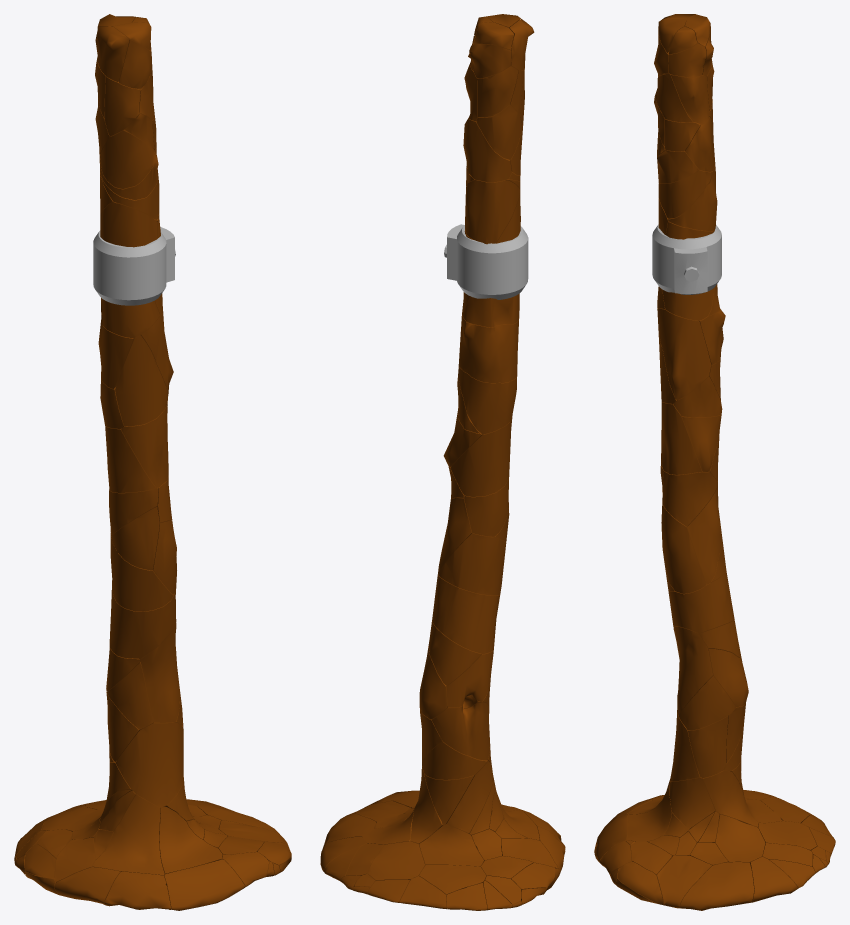
The picture shows the model from 3 angles, left to right: view 1: azimuth 30°, elevation 25°; view 2: azimuth 150°, elevation 25°; view 3: azimuth 270°, elevation 25°; orthographic projection. The views are drawn at different scales.
Visible parts, largest first — view 1: Circle.003, AnotherTrunk333.exported_cell.019, AnotherTrunk333.exported_cell.077, AnotherTrunk333.exported_cell.081, AnotherTrunk333.exported_cell.048, AnotherTrunk333.exported_cell.033, AnotherTrunk333.exported_cell.087, AnotherTrunk333.exported_cell.045, AnotherTrunk333.exported_cell.011, AnotherTrunk333.exported_cell.059, AnotherTrunk333.exported_cell.047, AnotherTrunk333.exported_cell.041 (+29 smaller); view 2: Circle.003, AnotherTrunk333.exported_cell.048, AnotherTrunk333.exported_cell.025, AnotherTrunk333.exported_cell.058, AnotherTrunk333.exported_cell.011, AnotherTrunk333.exported_cell.091, AnotherTrunk333.exported_cell.037, AnotherTrunk333.exported_cell.035, AnotherTrunk333.exported_cell.072, AnotherTrunk333.exported_cell.067, AnotherTrunk333.exported_cell.008, AnotherTrunk333.exported_cell.026 (+36 smaller); view 3: Circle.003, AnotherTrunk333.exported_cell.065, AnotherTrunk333.exported_cell.060, AnotherTrunk333.exported_cell.048, AnotherTrunk333.exported_cell.088, AnotherTrunk333.exported_cell.064, AnotherTrunk333.exported_cell.087, AnotherTrunk333.exported_cell.047, AnotherTrunk333.exported_cell.032, AnotherTrunk333.exported_cell.042, AnotherTrunk333.exported_cell.021, AnotherTrunk333.exported_cell.020 (+36 smaller).
Part boxes in pixels (left/top/right/bottom): Circle.003: left=93, top=227, right=175, bottom=305; AnotherTrunk333.exported_cell.019: left=115, top=722, right=183, bottom=807; AnotherTrunk333.exported_cell.077: left=92, top=795, right=164, bottom=875; AnotherTrunk333.exported_cell.081: left=115, top=335, right=167, bottom=426; AnotherTrunk333.exported_cell.048: left=110, top=587, right=176, bottom=658; AnotherTrunk333.exported_cell.033: left=164, top=859, right=245, bottom=910; AnotherTrunk333.exported_cell.087: left=140, top=623, right=179, bottom=722; AnotherTrunk333.exported_cell.045: left=159, top=806, right=222, bottom=875; AnotherTrunk333.exported_cell.011: left=110, top=532, right=173, bottom=611; AnotherTrunk333.exported_cell.059: left=100, top=130, right=156, bottom=188; AnotherTrunk333.exported_cell.047: left=121, top=405, right=168, bottom=487; AnotherTrunk333.exported_cell.041: left=104, top=871, right=170, bottom=909; Circle.003: left=444, top=224, right=528, bottom=299; AnotherTrunk333.exported_cell.048: left=432, top=574, right=500, bottom=653; AnotherTrunk333.exported_cell.025: left=459, top=315, right=519, bottom=382; AnotherTrunk333.exported_cell.058: left=450, top=415, right=512, bottom=496; AnotherTrunk333.exported_cell.011: left=438, top=533, right=506, bottom=595; AnotherTrunk333.exported_cell.091: left=465, top=180, right=519, bottom=244; AnotherTrunk333.exported_cell.037: left=458, top=367, right=517, bottom=434; AnotherTrunk333.exported_cell.035: left=431, top=702, right=489, bottom=760; AnotherTrunk333.exported_cell.072: left=419, top=824, right=484, bottom=866; AnotherTrunk333.exported_cell.067: left=463, top=118, right=511, bottom=182; AnotherTrunk333.exported_cell.008: left=368, top=841, right=425, bottom=880; AnotherTrunk333.exported_cell.026: left=464, top=479, right=508, bottom=536; Circle.003: left=652, top=224, right=721, bottom=294; AnotherTrunk333.exported_cell.065: left=657, top=308, right=711, bottom=399; AnotherTrunk333.exported_cell.060: left=680, top=862, right=754, bottom=910; AnotherTrunk333.exported_cell.048: left=668, top=570, right=734, bottom=633; AnotherTrunk333.exported_cell.088: left=661, top=504, right=705, bottom=593; AnotherTrunk333.exported_cell.064: left=662, top=471, right=717, bottom=526; AnotherTrunk333.exported_cell.087: left=673, top=627, right=712, bottom=714; AnotherTrunk333.exported_cell.047: left=661, top=402, right=701, bottom=474; AnotherTrunk333.exported_cell.032: left=687, top=486, right=721, bottom=584; AnotherTrunk333.exported_cell.042: left=715, top=814, right=765, bottom=862; AnotherTrunk333.exported_cell.021: left=678, top=676, right=735, bottom=730; AnotherTrunk333.exported_cell.020: left=657, top=855, right=712, bottom=908.
Size of the model in its own units: 110 by 389 by 104.
